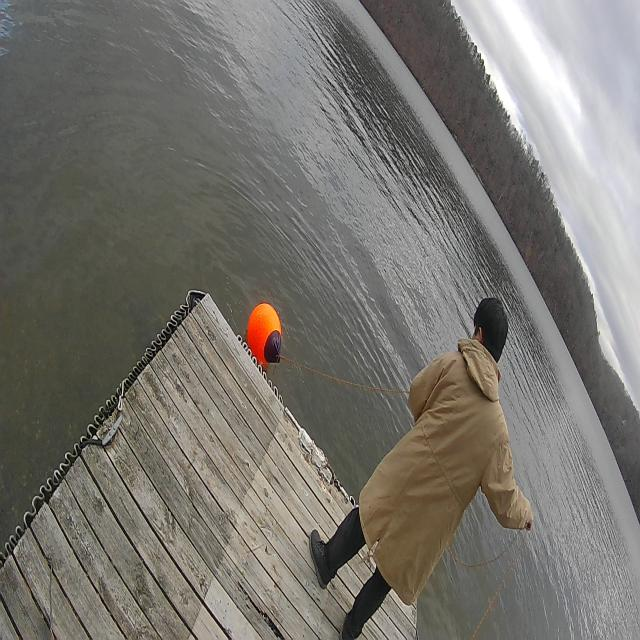Buoy: (242, 294, 285, 382)
